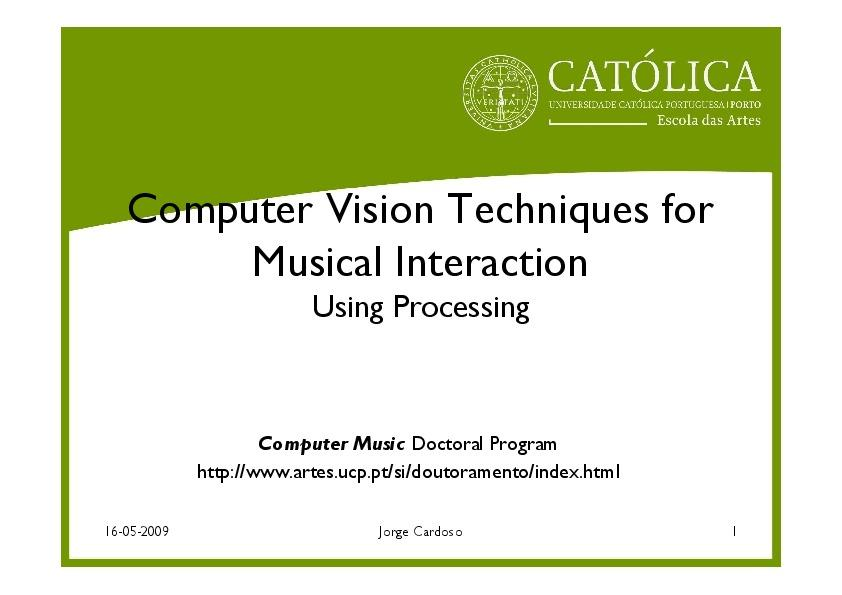subtitle: (160, 416, 644, 503)
title: (111, 176, 745, 336)
